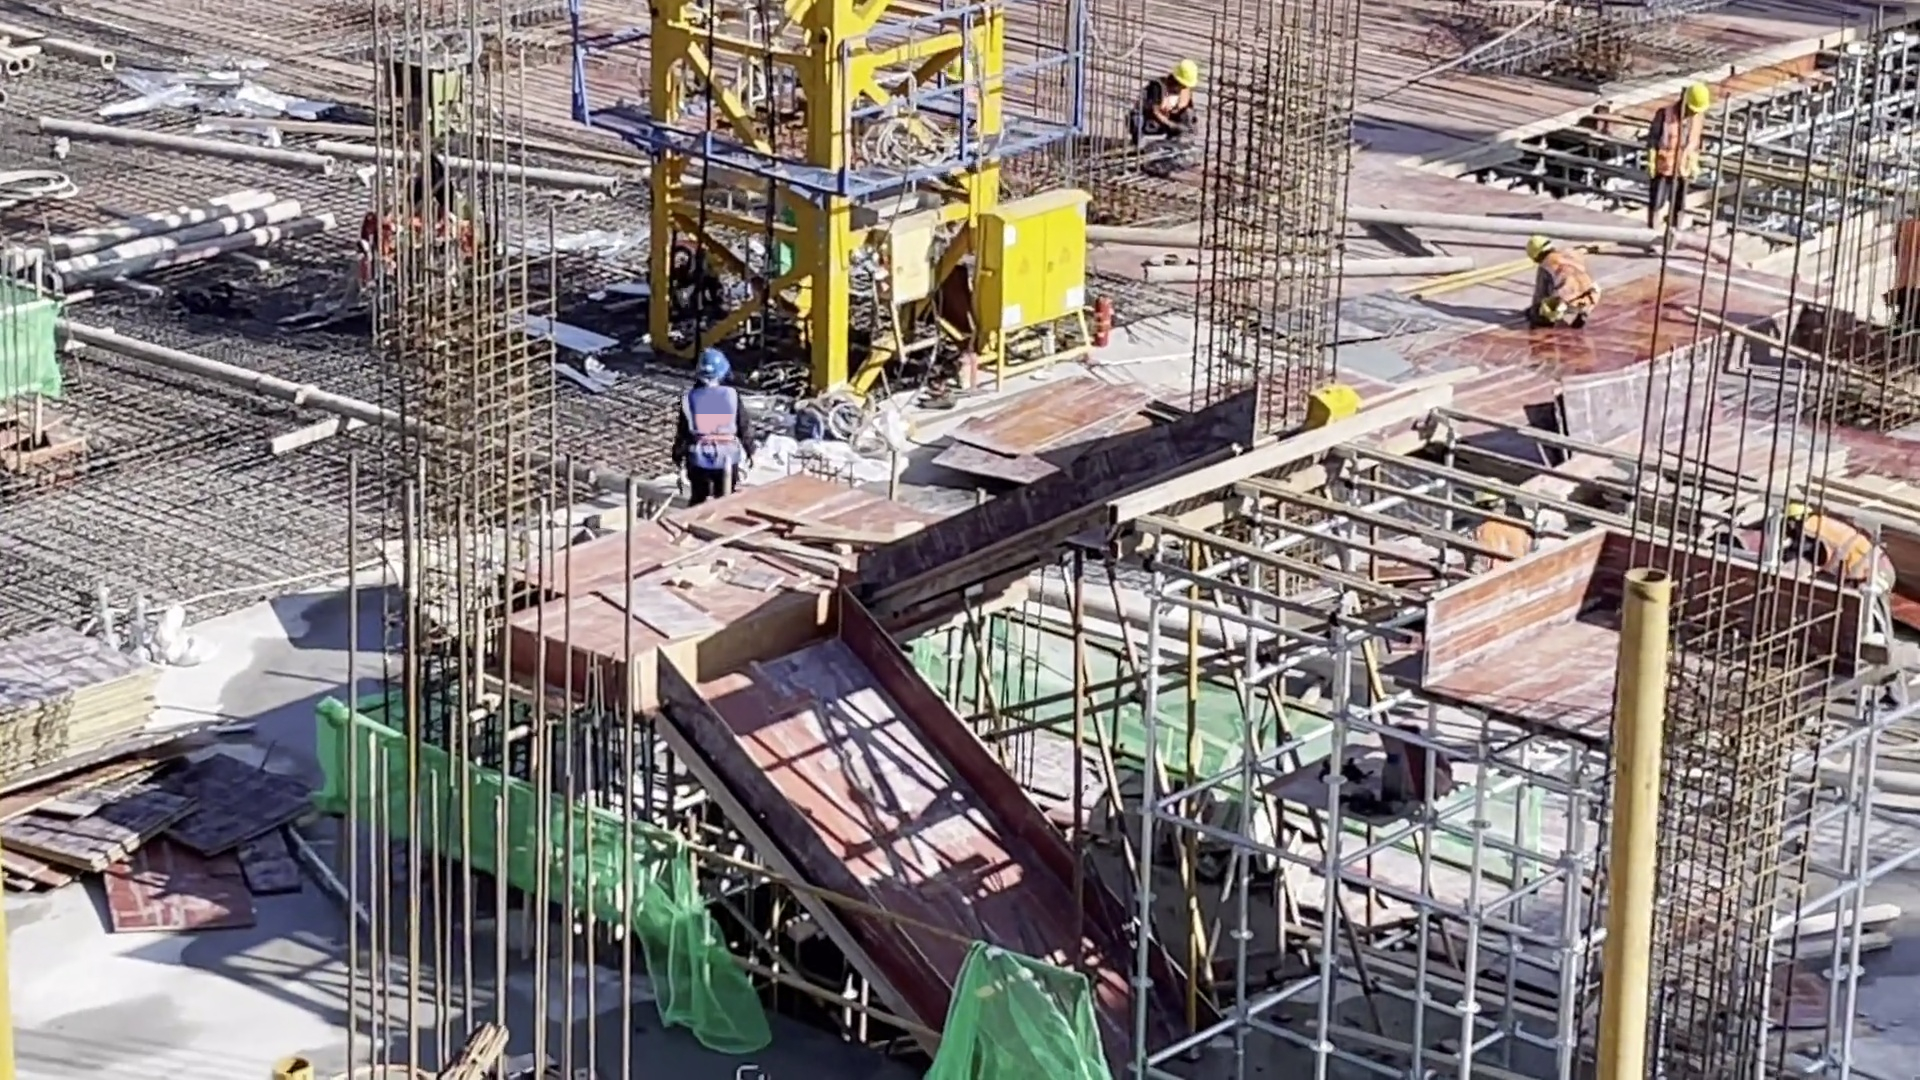helmet: (1676, 79, 1715, 116), (695, 350, 728, 388), (1523, 228, 1556, 264), (1169, 59, 1197, 93)
person: (1777, 495, 1897, 615), (668, 345, 751, 480), (1642, 78, 1712, 226), (1513, 231, 1601, 330), (1128, 56, 1205, 157), (1464, 465, 1530, 583)
vest: (1805, 509, 1895, 595), (680, 385, 744, 475), (1645, 102, 1703, 184), (1128, 80, 1191, 139), (1546, 254, 1596, 320)
